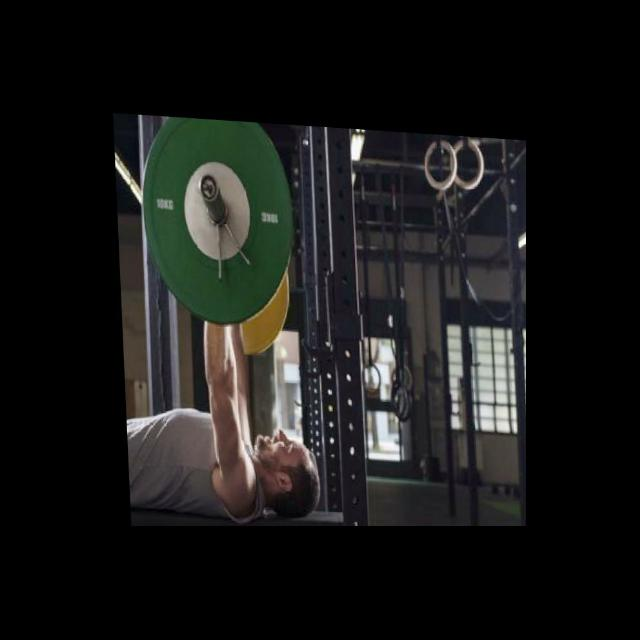barbell: (136, 114, 300, 331)
